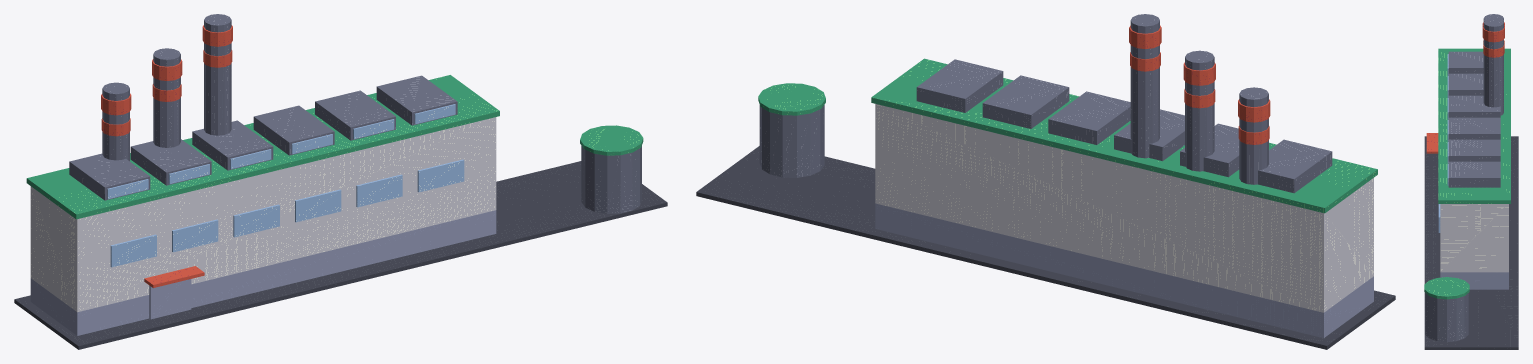
Rendered from ind-5x1-l3.glb.
The picture shows the model from 3 angles, left to right: view 1: azimuth 30°, elevation 25°; view 2: azimuth 150°, elevation 25°; view 3: azimuth 270°, elevation 25°; orthographic projection. The views are drawn at different scales.
Parts seen in each view (by area): view 1: ind-5x1-l3; view 2: ind-5x1-l3; view 3: ind-5x1-l3.
Boxes of the visible parts, box(x1,y1,x2,y2) form: ind-5x1-l3: box(14, 14, 667, 349); ind-5x1-l3: box(696, 14, 1395, 349); ind-5x1-l3: box(1424, 14, 1518, 349).
Size of the model in its own units: 9.86 by 4 by 1.87.
1 material, 1 textured.
